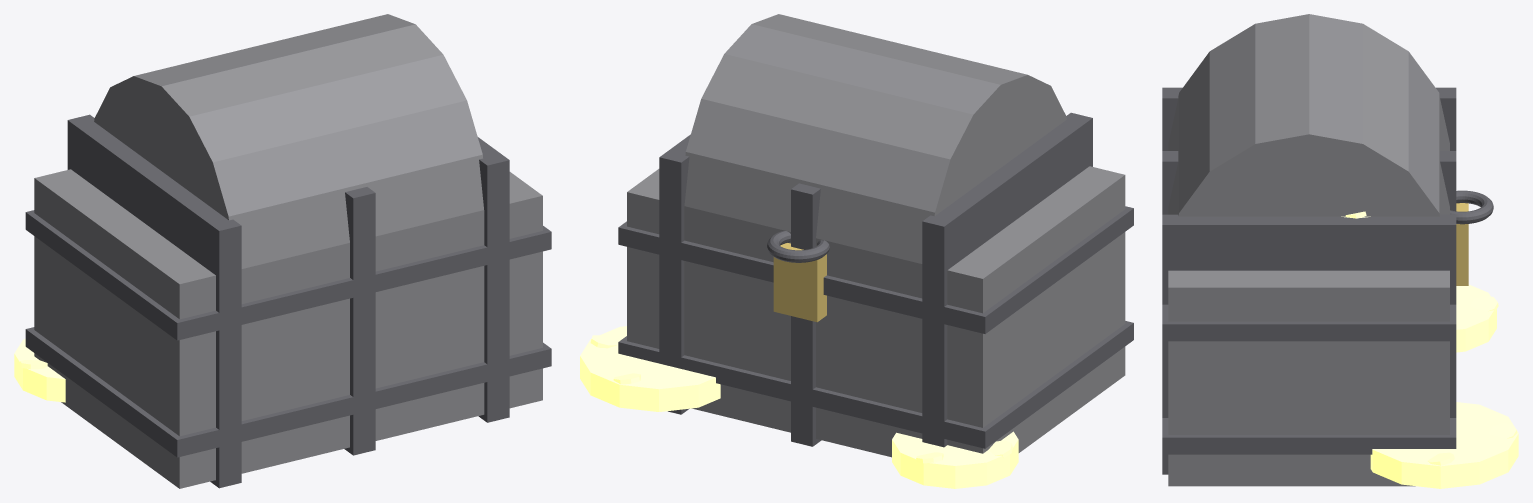
File: treasury_vault.glb
3 renders of one model, left to right at view 1: azimuth 30°, elevation 25°; view 2: azimuth 150°, elevation 25°; view 3: azimuth 270°, elevation 25°, orthographic. The views are drawn at different scales.
Visible parts, largest first — view 1: Cube, Cylinder, Cube.001, Cube.005, Cube.004, Cube.003, Cube.002, Cylinder.016; view 2: Cube, Cylinder, Cube.001, Cube.004, Cube.005, Cylinder.011, Cube.003, Cube.002, Cylinder.016, Cube.006, Torus; view 3: Cube, Cylinder, Cube.003, Cylinder.011, Cube.005, Cube.004, Cylinder.016, Cube.001, Cube.002, Torus, Cube.006.
Boxes of the visible parts, x1=… form: Cube: x1=34, y1=169, x2=542, y2=488; Cylinder: x1=94, y1=14, x2=483, y2=268; Cube.001: x1=67, y1=114, x2=241, y2=488; Cube.005: x1=25, y1=210, x2=551, y2=340; Cube.004: x1=25, y1=327, x2=551, y2=457; Cube.003: x1=478, y1=137, x2=509, y2=422; Cube.002: x1=344, y1=187, x2=375, y2=455; Cylinder.016: x1=14, y1=339, x2=65, y2=402; Cube: x1=627, y1=166, x2=1125, y2=457; Cylinder: x1=684, y1=14, x2=1066, y2=263; Cube.001: x1=922, y1=112, x2=1092, y2=447; Cube.004: x1=618, y1=321, x2=1133, y2=448; Cube.005: x1=618, y1=206, x2=1133, y2=333; Cylinder.011: x1=580, y1=326, x2=720, y2=411; Cube.003: x1=659, y1=134, x2=690, y2=414; Cube.002: x1=791, y1=183, x2=821, y2=446; Cylinder.016: x1=892, y1=431, x2=1018, y2=488; Cube.006: x1=773, y1=243, x2=826, y2=322; Torus: x1=767, y1=231, x2=829, y2=262; Cube: x1=1168, y1=270, x2=1449, y2=486; Cylinder: x1=1168, y1=14, x2=1449, y2=216; Cube.003: x1=1162, y1=214, x2=1456, y2=474; Cylinder.011: x1=1370, y1=402, x2=1518, y2=488; Cube.005: x1=1162, y1=304, x2=1456, y2=341; Cube.004: x1=1162, y1=418, x2=1456, y2=454; Cylinder.016: x1=1456, y1=284, x2=1496, y2=352; Cube.001: x1=1162, y1=87, x2=1456, y2=150; Cube.002: x1=1162, y1=151, x2=1456, y2=214; Torus: x1=1450, y1=190, x2=1493, y2=224; Cube.006: x1=1456, y1=203, x2=1468, y2=285.
Size of the model in its own units: 1.53 by 1.17 by 1.14.
